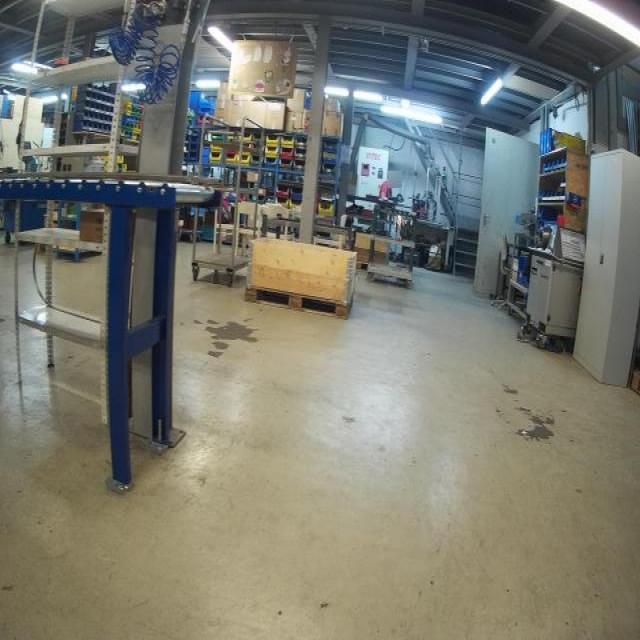pallet: (243, 283, 354, 321)
